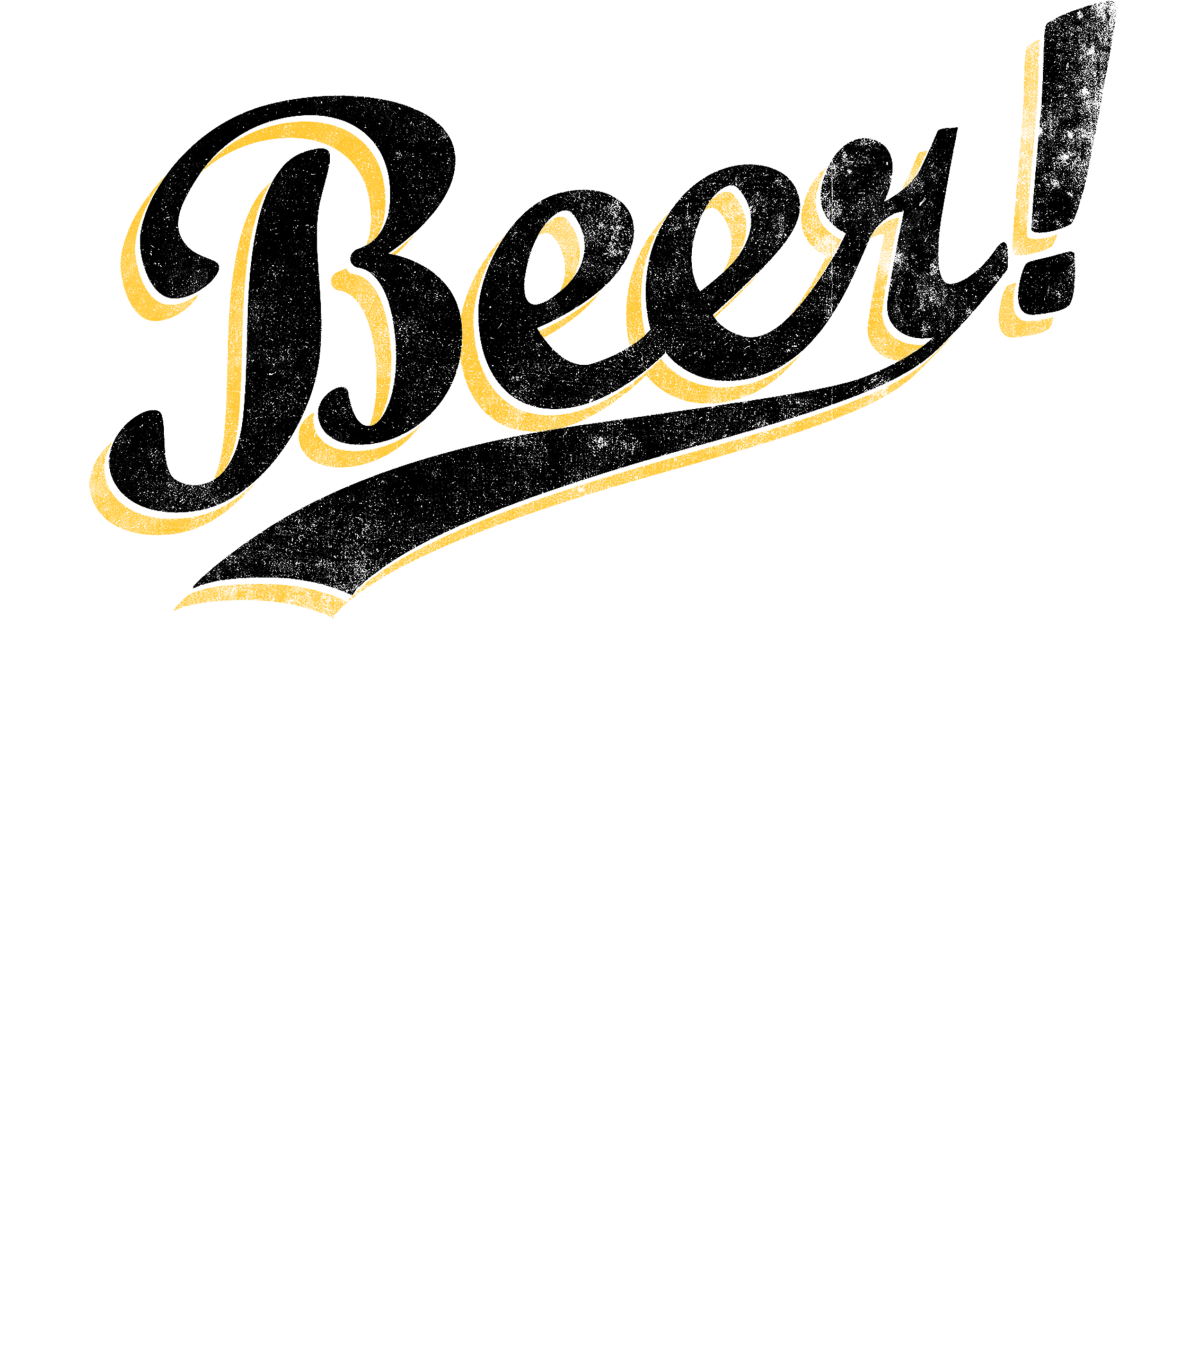design: (59, 1, 1128, 630)
